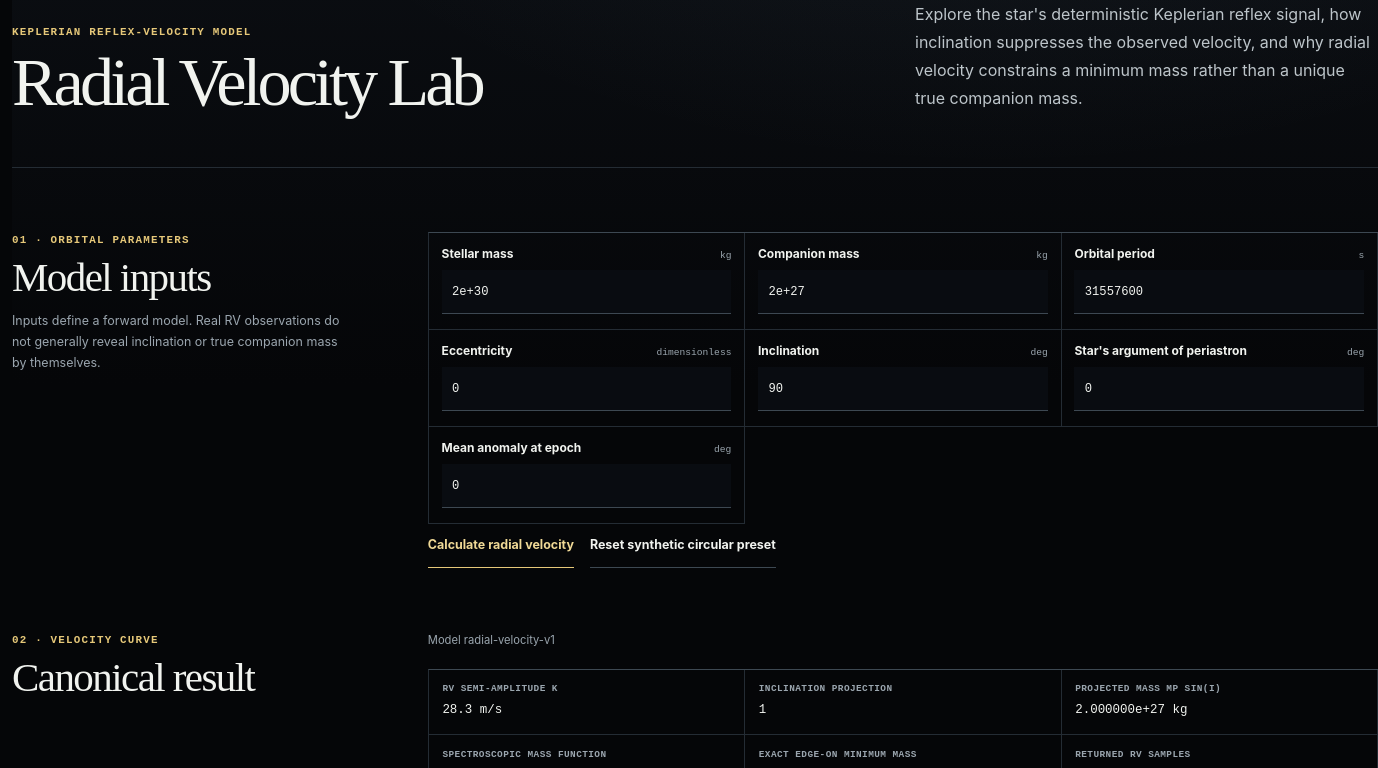
it: RadialVelocityView › rejects empty numeric drafts instead of coercing them to zero
The image size is (1378, 768).
Clear the number field labelled "Stellar mass kg" at (586, 292), box x1=442 y1=270 x2=731 y2=314
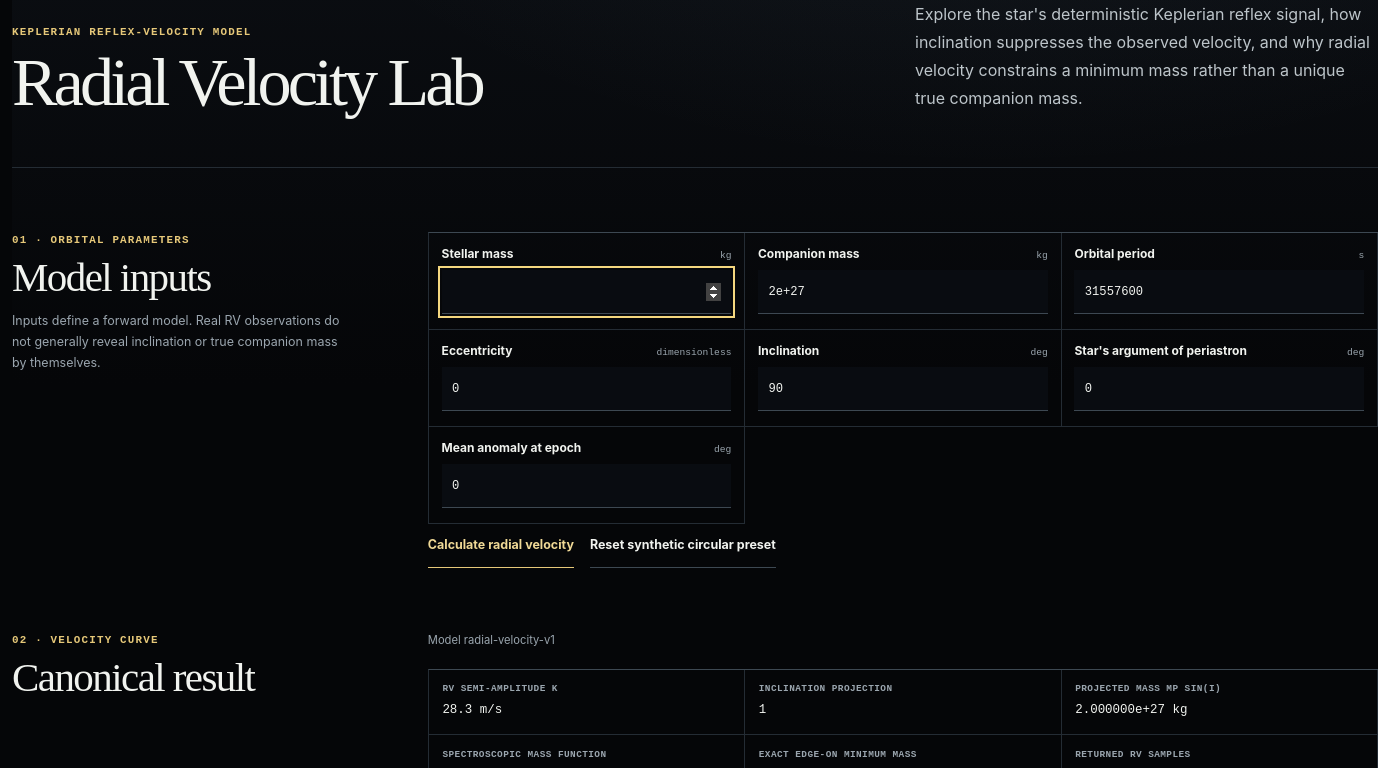
Click the button "Calculate radial velocity".
click(501, 546)  # box x1=428 y1=524 x2=574 y2=568
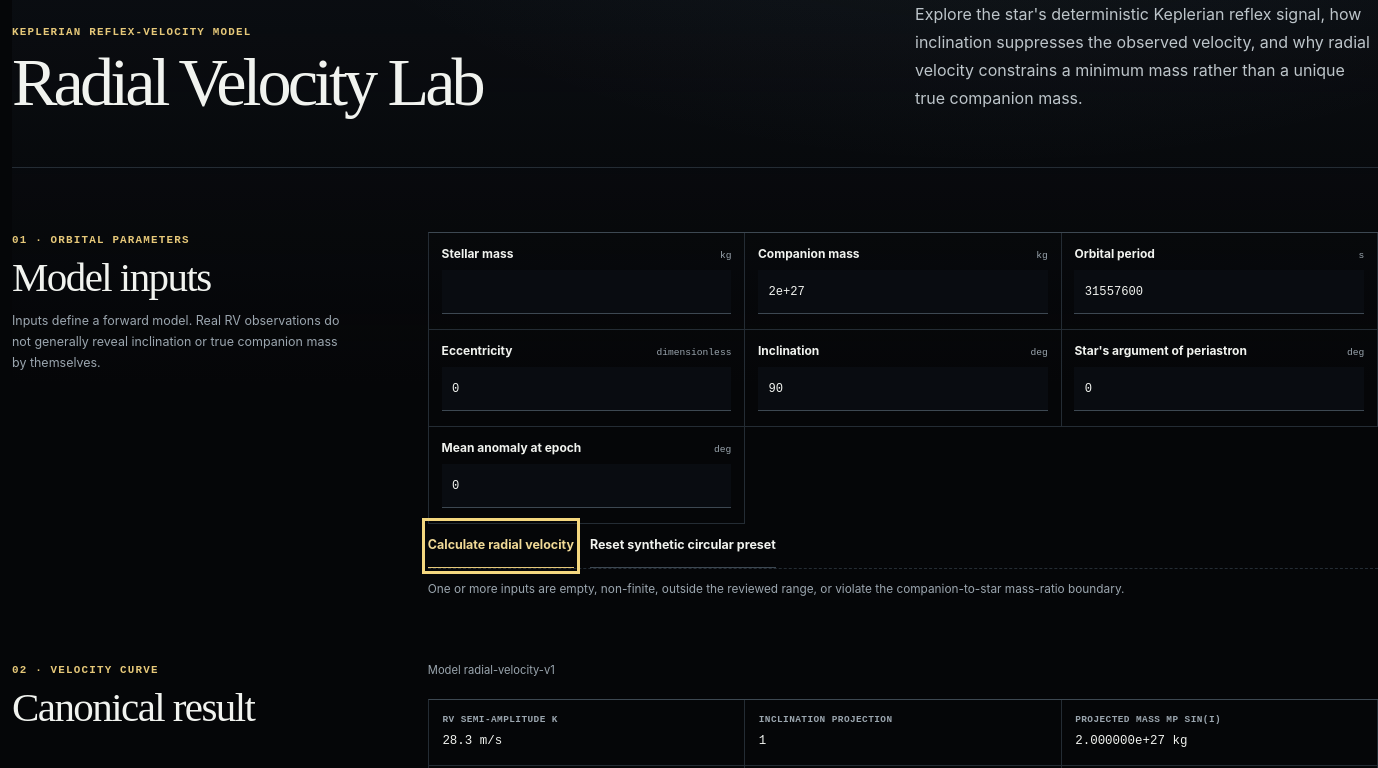
Result: the text "empty, non-finite, outside" is shown at x1=428 y1=582 x2=1124 y2=596
